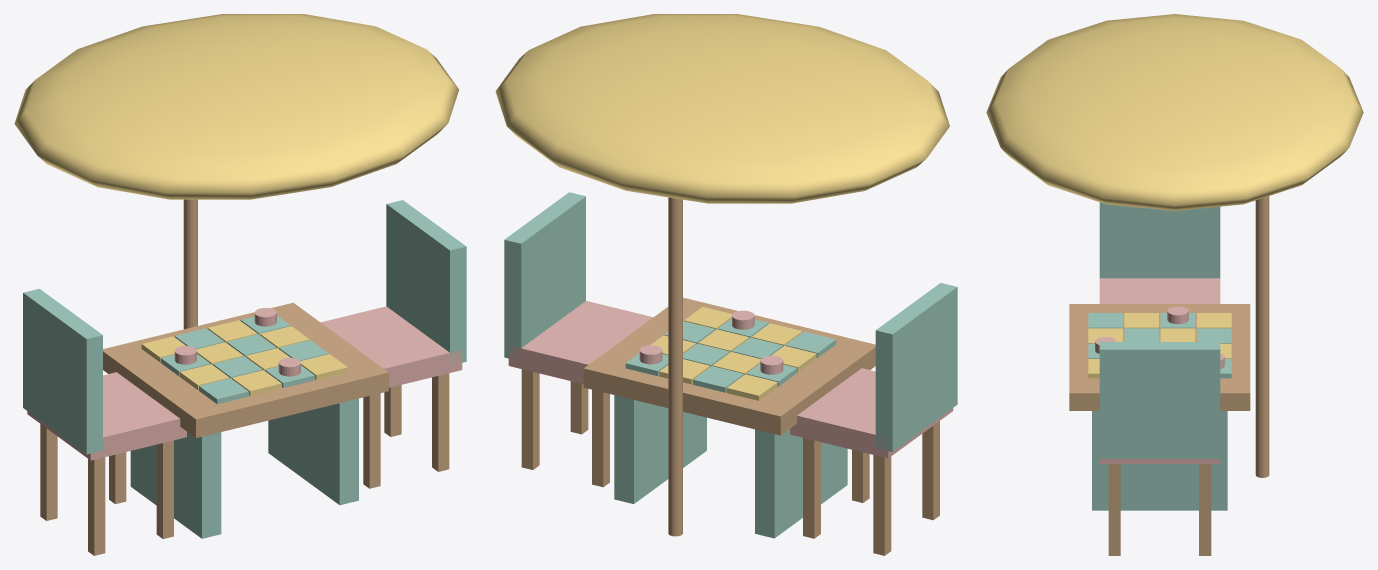
File: puzzle-table.glb
The picture shows the model from 3 angles, left to right: view 1: azimuth 30°, elevation 25°; view 2: azimuth 150°, elevation 25°; view 3: azimuth 270°, elevation 25°; orthographic projection. The views are drawn at different scales.
Visible parts, largest first — view 1: parasol canopy, puzzle square.001, parasol pole, chair back.007, chair back, chair leg.004, chair seat, chair seat.007, chair leg.011, puzzle counter; view 2: parasol canopy, puzzle square.001, parasol pole, chair back.007, chair back, chair leg.004, chair seat, chair seat.007, chair leg.011, puzzle counter; view 3: parasol canopy, chair back, parasol pole, chair back.007, puzzle square.001, chair seat.007, chair leg.011, chair seat, puzzle counter.
Part boxes in pixels (bbox=[...]): parasol canopy: bbox=[14, 14, 459, 396]; puzzle square.001: bbox=[130, 315, 358, 538]; parasol pole: bbox=[103, 199, 388, 437]; chair back.007: bbox=[23, 288, 102, 454]; chair back: bbox=[386, 200, 466, 363]; chair leg.004: bbox=[40, 424, 173, 555]; chair seat: bbox=[321, 306, 462, 387]; chair seat.007: bbox=[27, 372, 186, 460]; chair leg.011: bbox=[363, 373, 449, 488]; puzzle counter: bbox=[174, 308, 300, 376]; parasol canopy: bbox=[495, 14, 949, 400]; puzzle square.001: bbox=[614, 318, 847, 538]; parasol pole: bbox=[583, 197, 875, 536]; chair back.007: bbox=[875, 283, 957, 451]; chair back: bbox=[504, 192, 585, 359]; chair leg.004: bbox=[803, 421, 939, 555]; chair seat: bbox=[508, 301, 652, 383]; chair seat.007: bbox=[790, 368, 953, 458]; chair leg.011: bbox=[521, 369, 609, 487]; puzzle counter: bbox=[639, 310, 783, 374]; parasol canopy: bbox=[986, 14, 1363, 378]; chair back: bbox=[1099, 342, 1220, 458]; parasol pole: bbox=[1069, 196, 1269, 477]; chair back.007: bbox=[1099, 202, 1220, 278]; puzzle square.001: bbox=[1088, 313, 1231, 510]; chair seat.007: bbox=[1099, 278, 1220, 303]; chair leg.011: bbox=[1108, 464, 1211, 555]; chair seat: bbox=[1099, 459, 1220, 463]; puzzle counter: bbox=[1095, 306, 1224, 368].
Size of the model in its own units: 2.9 by 2.9 by 2.5.
